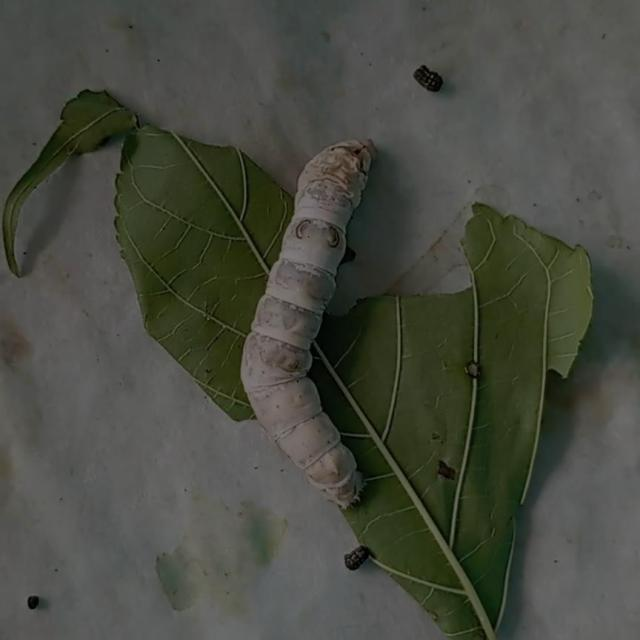Grasserie: (202, 100, 430, 544)
